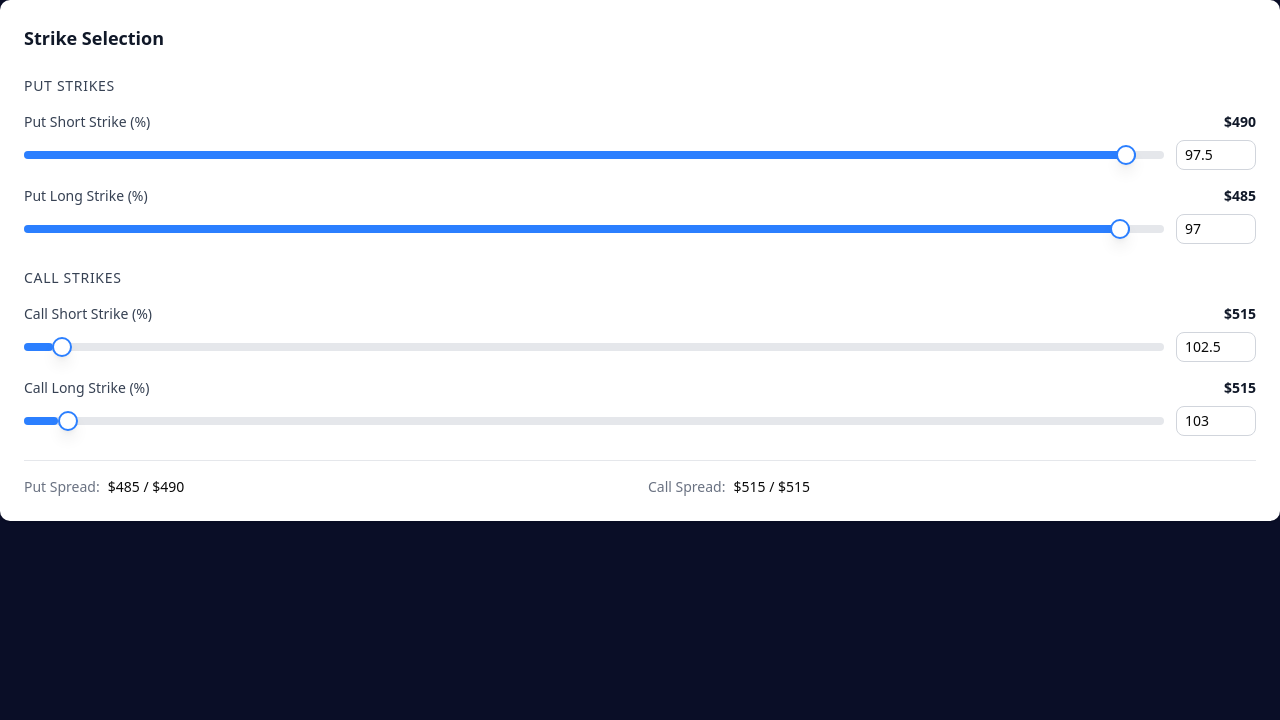
Test case: StrikeSelector Component › updates local state when input value changes
The image size is (1280, 720).
Clear and type new value
Replace the text in the number field labelled "Put Short Strike (%)" with "96.5" at (1216, 155), box [1176, 140, 1256, 170]
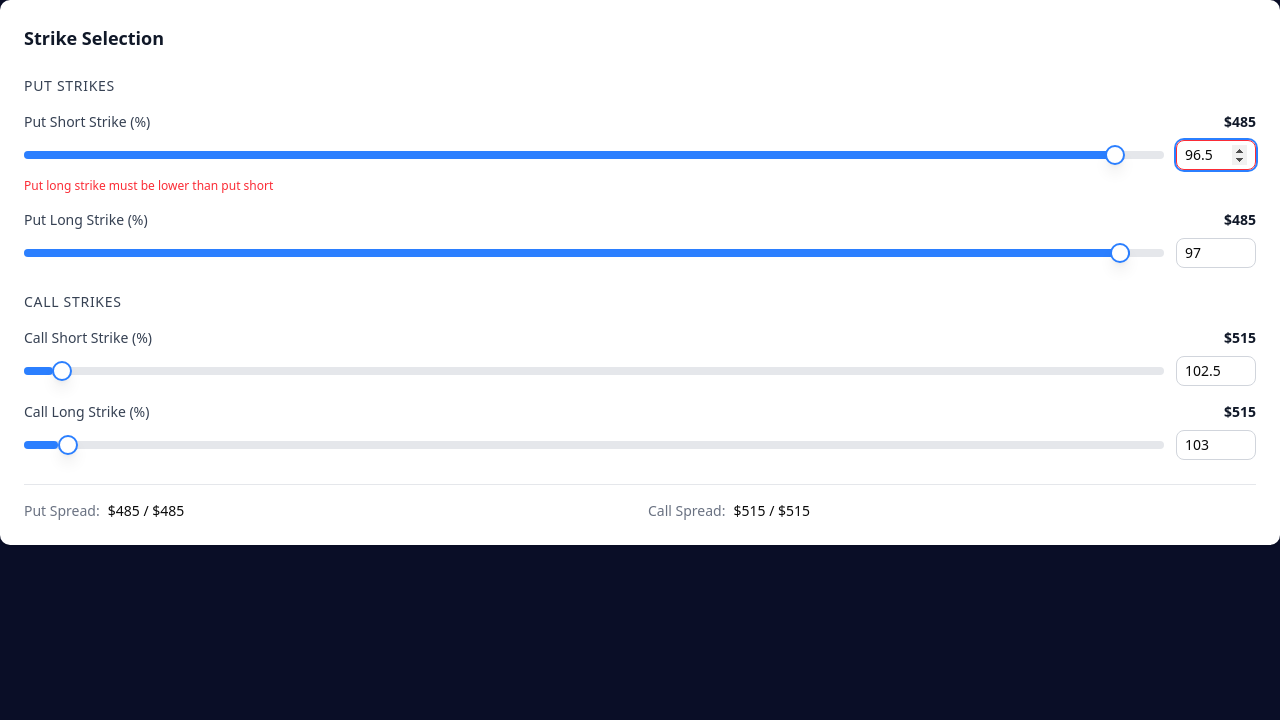
Result: the text with test id "put-short-price" reads "$485" at [1224, 112, 1256, 132]
